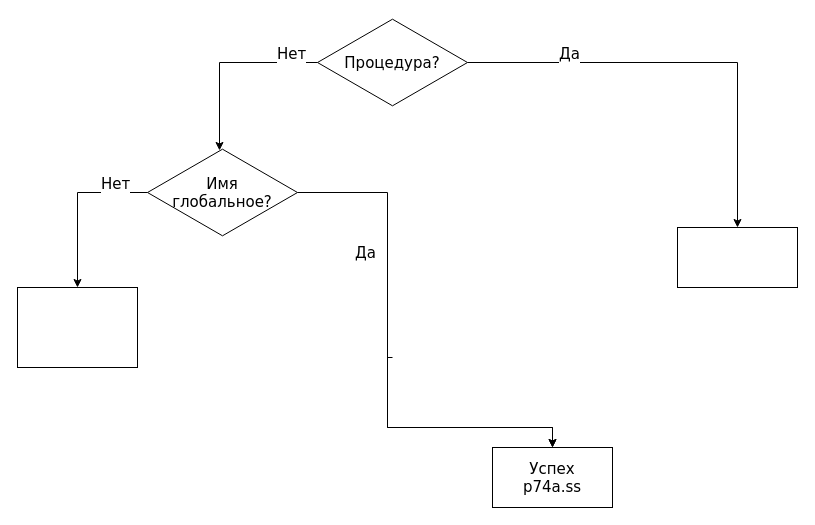
This 815x525 diagram has some shape labels left out. Each missing label, with the centre of its shape:
Ошибка p74-1.ss: pixel 77 327
Ошибка p74-2.ss: pixel 737 257
